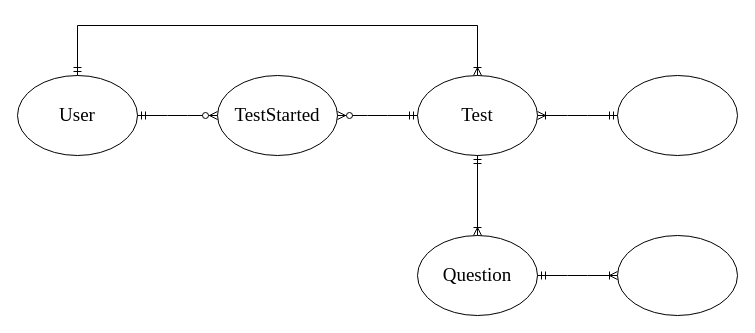
Some shapes in this 755 by 333 pixel diagram are drawn without their labels. The shapes that lost their labels are listed below. From the top down, each one's box as (x1, y1, x2, y2) in pixels, then its label:
(616, 74, 738, 156): Category
(616, 234, 738, 316): Answer
